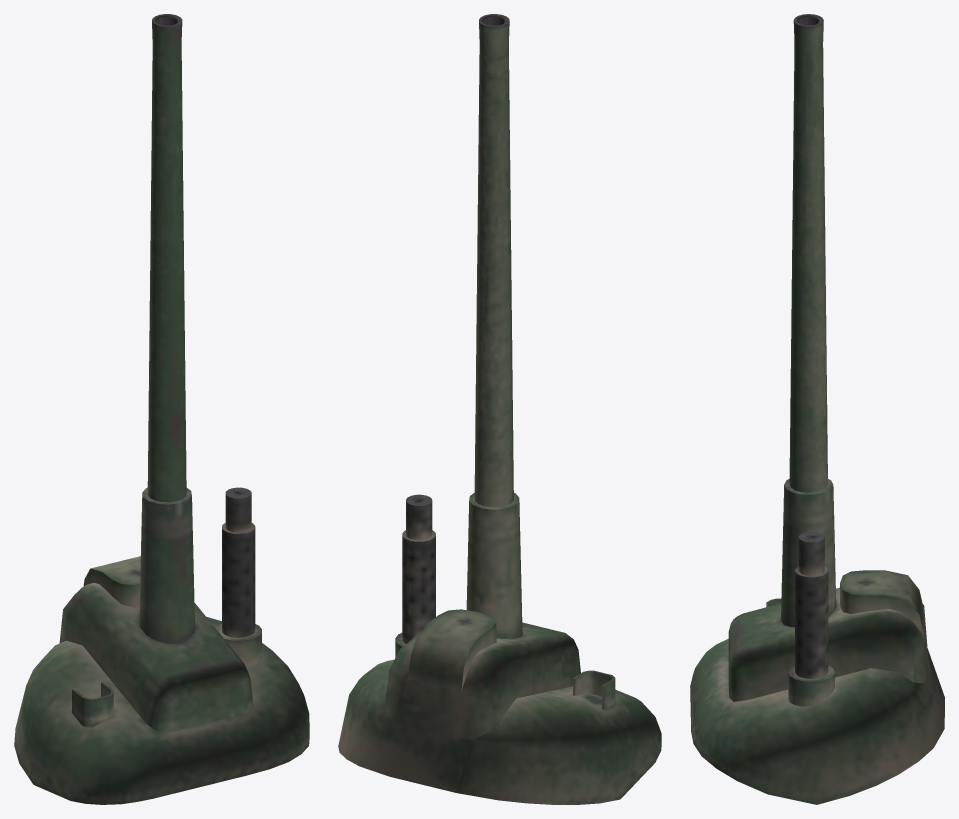
File: Gun_03.glb
3 renders of one model, left to right at view 1: azimuth 30°, elevation 25°; view 2: azimuth 150°, elevation 25°; view 3: azimuth 270°, elevation 25°, orthographic. The views are drawn at different scales.
Visible parts, largest first — view 1: set_0_group_0; view 2: set_0_group_0; view 3: set_0_group_0.
Part boxes in pixels (x1,y1,x2,y2): set_0_group_0: [14, 14, 309, 804]; set_0_group_0: [338, 14, 661, 804]; set_0_group_0: [690, 14, 944, 804].
Size of the model in its own units: 0.51 by 1.38 by 0.4406.
Materials: 1 (1 with a texture image).
